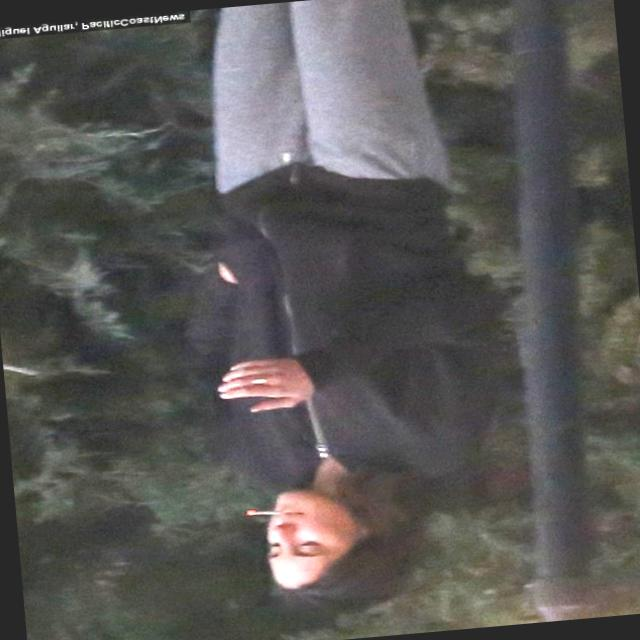cigarette: (236, 505, 295, 524)
